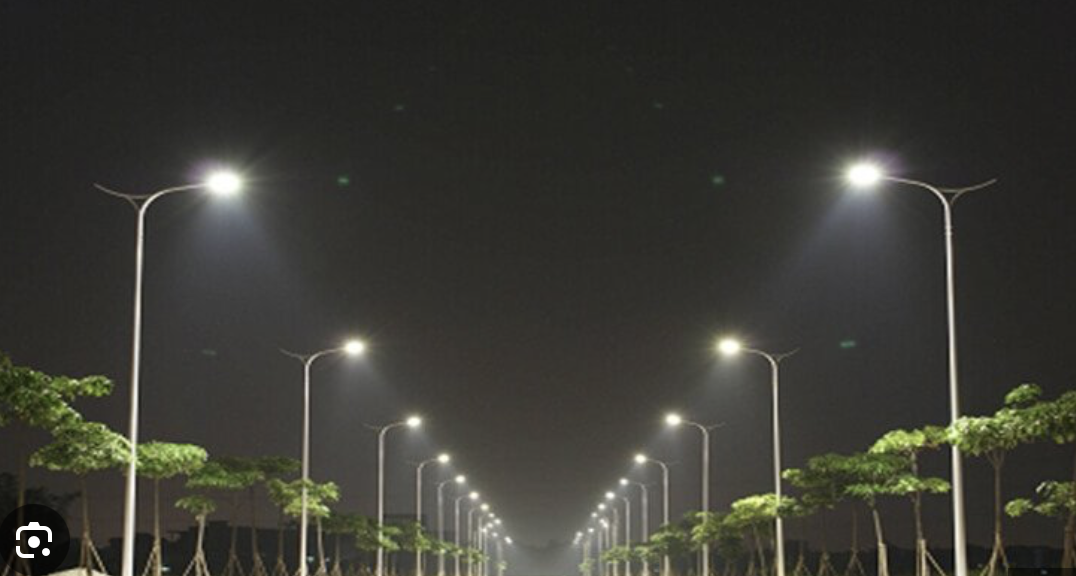LED: (840, 148, 888, 199), (195, 157, 249, 202), (713, 329, 750, 360), (336, 330, 373, 360), (402, 408, 428, 433), (663, 408, 689, 432), (630, 447, 652, 470), (430, 448, 454, 466)
